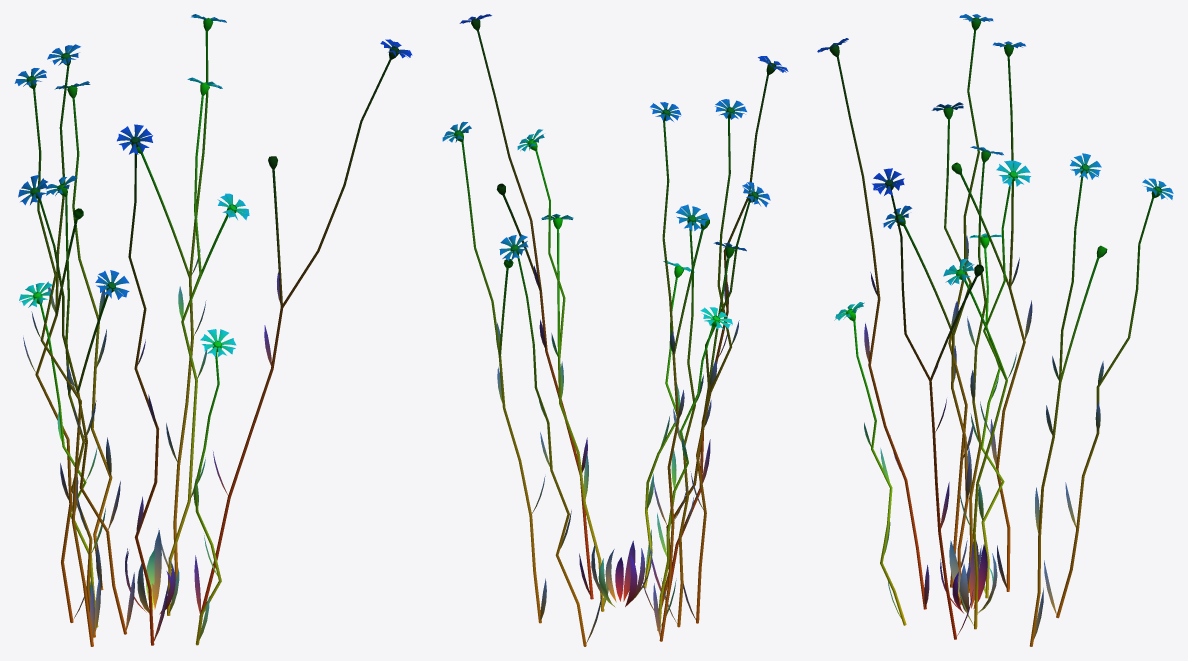
File: SM_Flower_Cornflower_B.fbx
3 views of the same model, side by side, from view 1: azimuth 30°, elevation 25°; view 2: azimuth 150°, elevation 25°; view 3: azimuth 270°, elevation 25° (orthographic). The views are drawn at different scales.
Parts seen in each view (by area): view 1: SM_Flower_Cornflower_B; view 2: SM_Flower_Cornflower_B; view 3: SM_Flower_Cornflower_B.
Boxes of the visible parts, x1,y1,x2,y2 form: SM_Flower_Cornflower_B: (14,14,412,646); SM_Flower_Cornflower_B: (442,14,788,646); SM_Flower_Cornflower_B: (817,14,1173,646).
Size of the model in its own units: 0.449 by 0.6894 by 0.4043.
